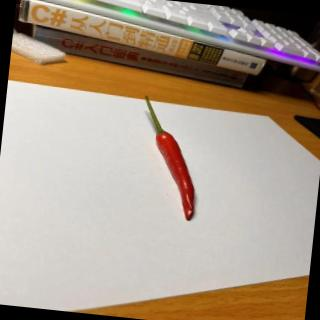Cabai Merah: (133, 96, 207, 222)
